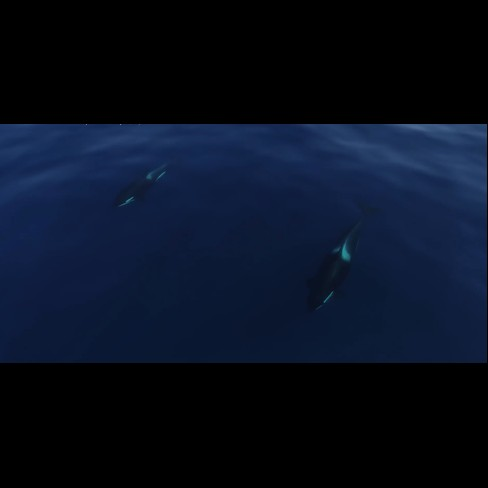orca: (295, 197, 387, 323), (95, 156, 183, 219)
